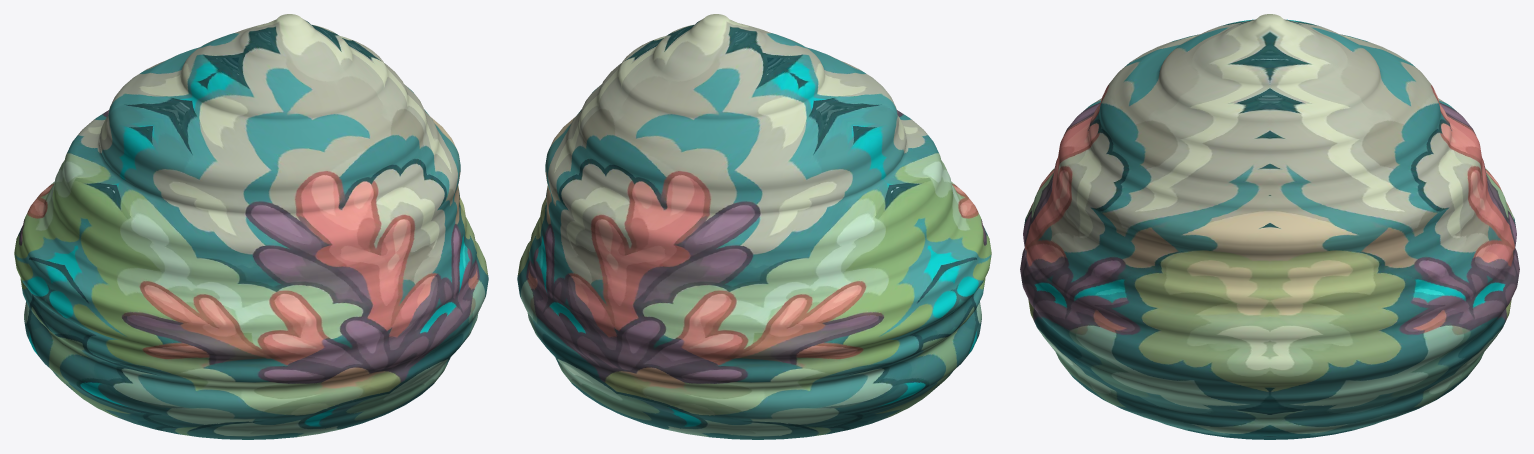
Rendered from coral_bush.glb.
The picture shows the model from 3 angles, left to right: view 1: azimuth 30°, elevation 25°; view 2: azimuth 150°, elevation 25°; view 3: azimuth 270°, elevation 25°; orthographic projection. The views are drawn at different scales.
Visible parts, largest first — view 1: coral_bush; view 2: coral_bush; view 3: coral_bush.
Boxes of the visible parts, bbox=[...] form: coral_bush: bbox=[14, 14, 488, 439]; coral_bush: bbox=[517, 14, 991, 439]; coral_bush: bbox=[1020, 14, 1519, 439].
Size of the model in its own units: 0.9981 by 0.8432 by 0.9818.
Materials: 1 (1 with a texture image).
